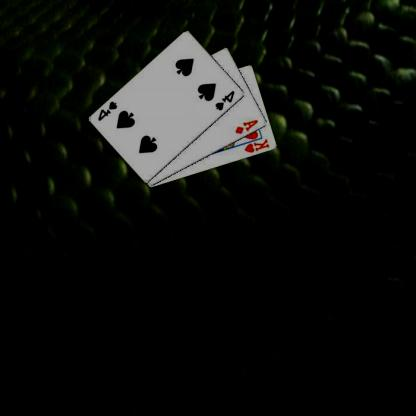4S: (214, 88, 237, 112), (98, 98, 121, 122)
AD: (235, 117, 261, 135)
KH: (244, 136, 272, 154)
